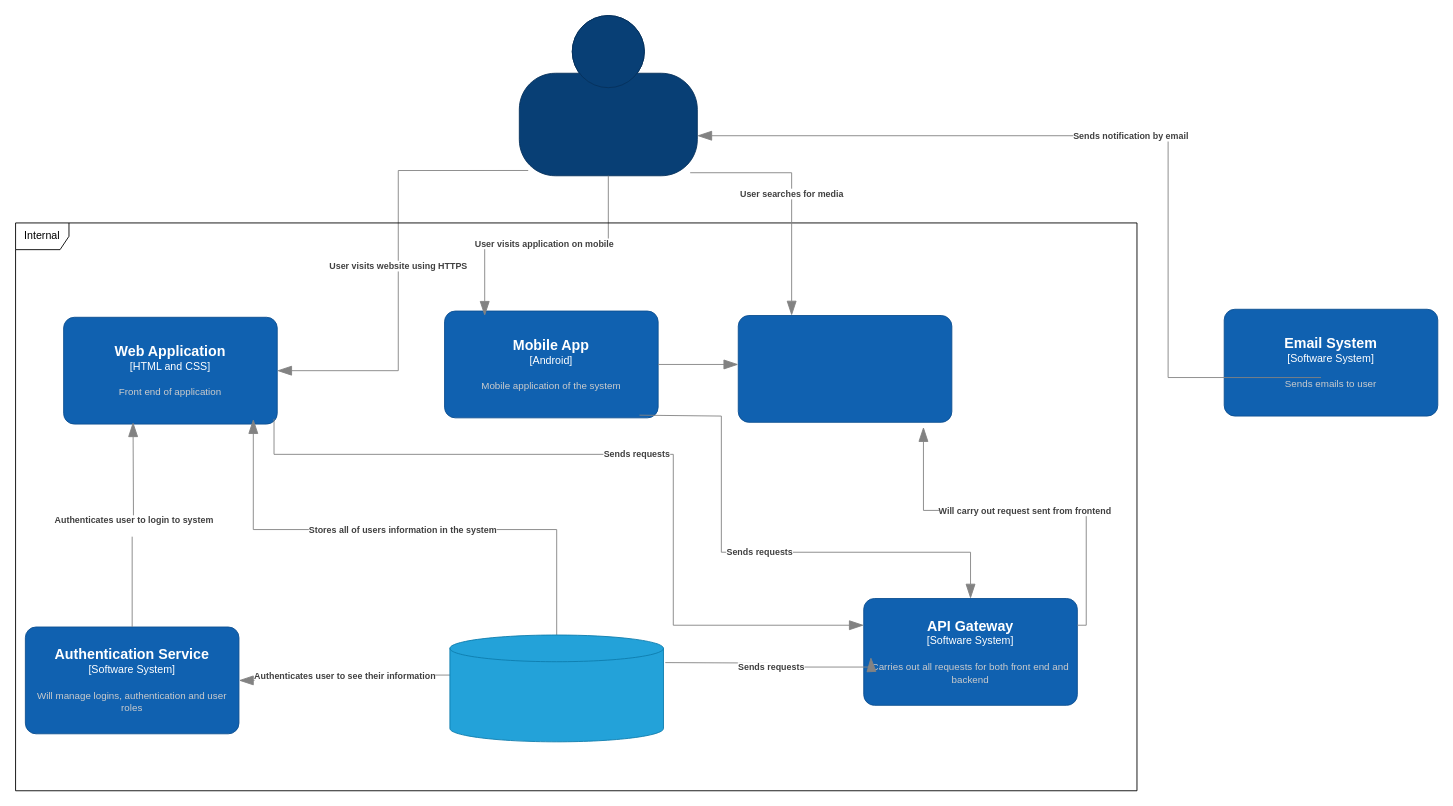
This 1453x806 diagram has some shape labels left out. The shapes that lost their labels are listed below. From the top down, each one's centre as x and y in pixels, then its label:
the point at 607,95: User [Library Member] Member accessing the application
the point at 844,368: Search Service [Software System] User can search for media
the point at 556,688: Database [Container: MySQL] Stores all information for system
